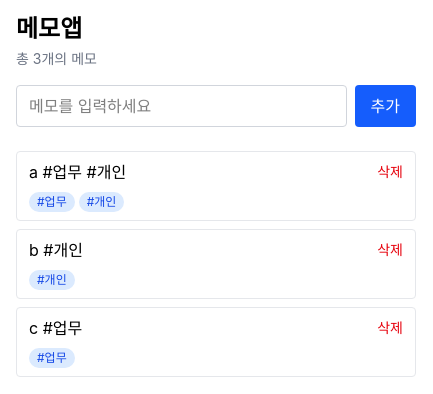
Test: App 태그 필터 › should switch the filter to the other tag when a different chip is clicked
The image size is (433, 394).
Click the button "#업무" below "a #업무 #개인": (52, 202) [29,192,75,212]
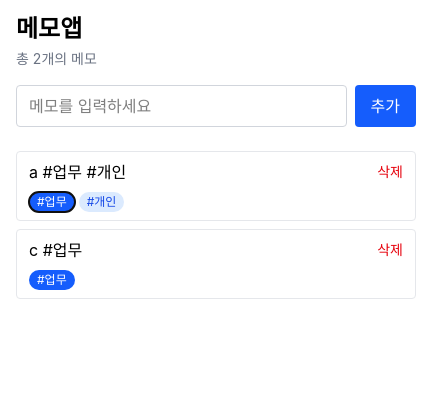
Check: the text "b #개인" is gone
Click the button "#개인": (102, 202) [79,192,124,212]
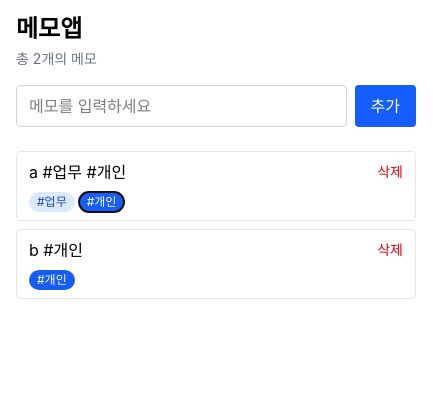
Check: the text "a #업무 #개인" is shown, box [29,160,126,184]
Check: the text "b #개인" is shown, box [29,238,83,262]
Check: the text "c #업무" is gone
